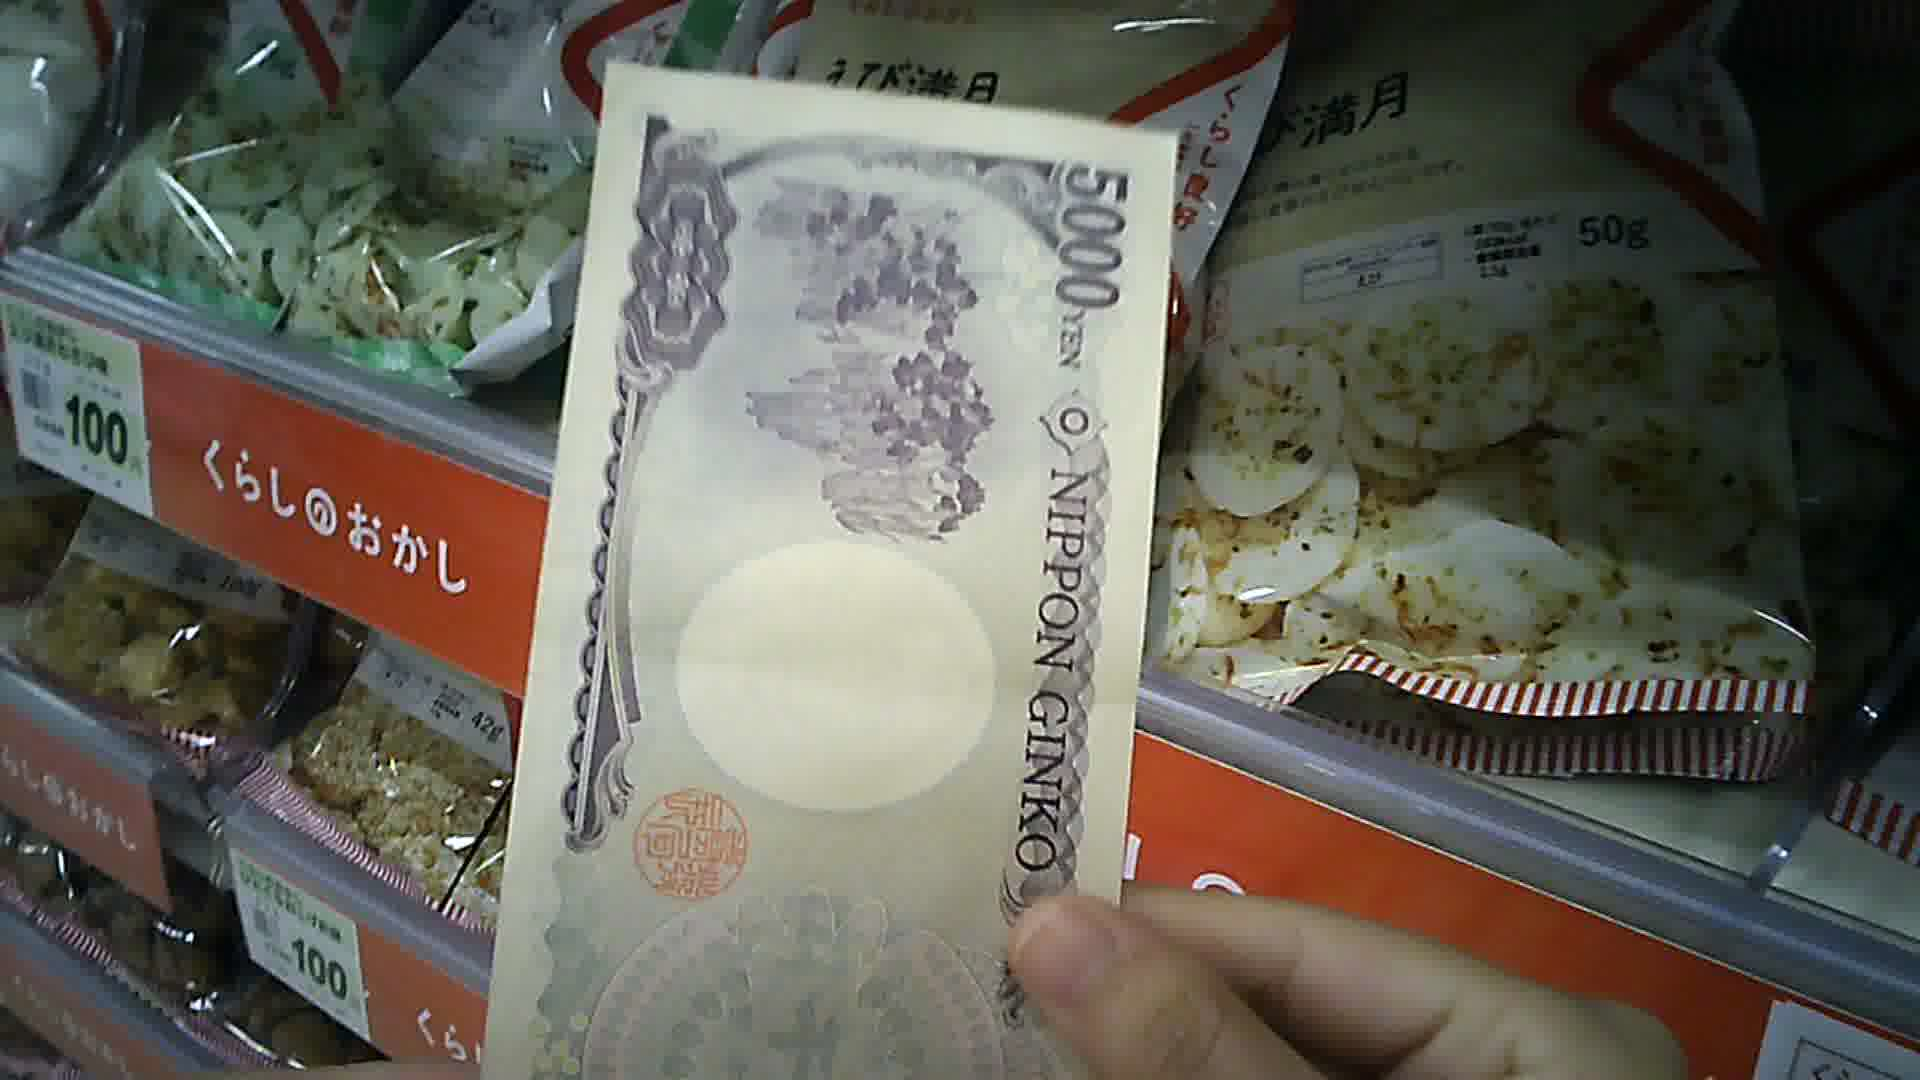5,000 Yen: (473, 38, 1153, 1063)
